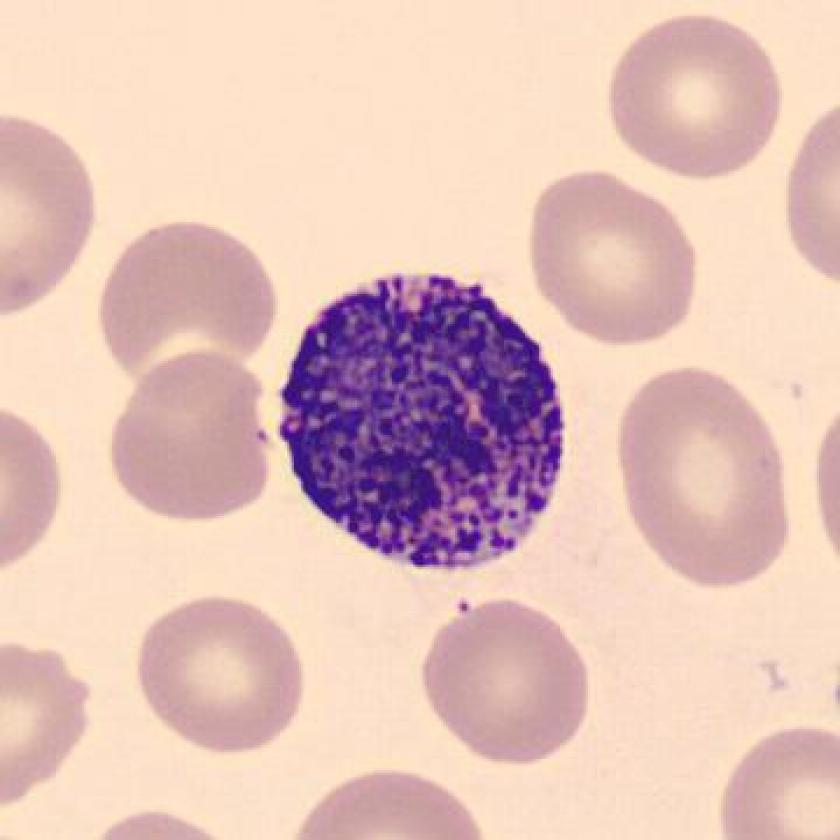basophil: (279, 267, 566, 582)
